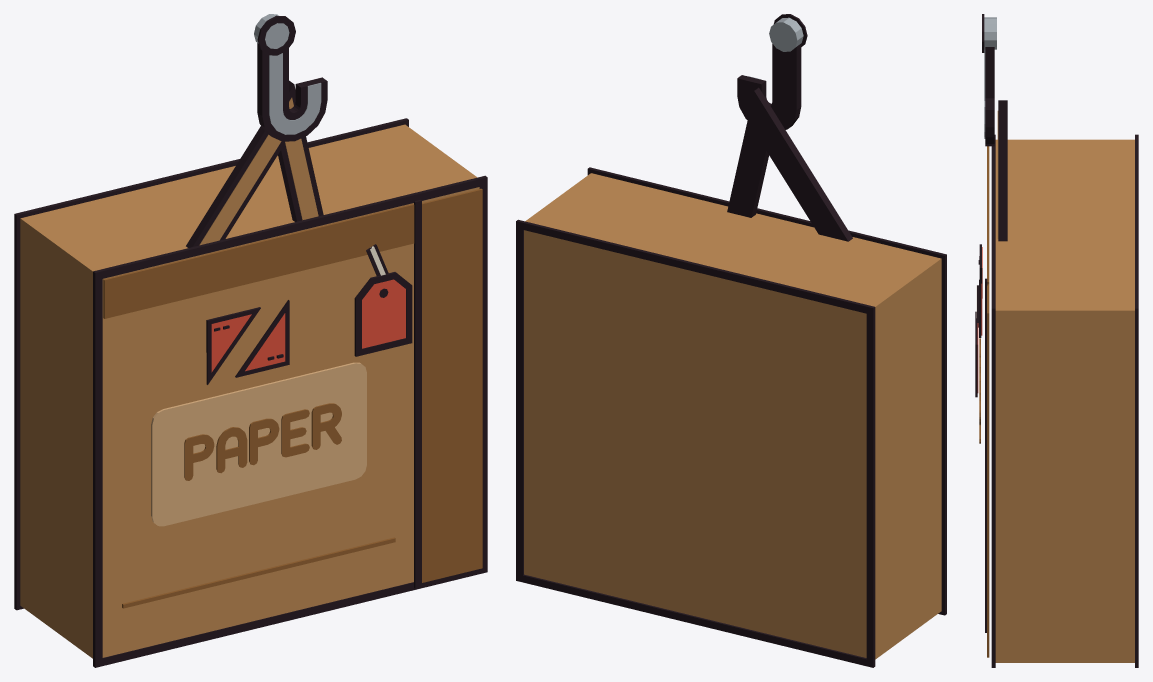
3 views of the same model, side by side, from view 1: azimuth 30°, elevation 25°; view 2: azimuth 150°, elevation 25°; view 3: azimuth 270°, elevation 25° (orthographic). The views are drawn at different scales.
Parts seen in each view (by area): view 1: Bag Holders proposal; view 2: Bag Holders proposal; view 3: Bag Holders proposal.
Part boxes in pixels (bbox=[...]): Bag Holders proposal: bbox=[14, 14, 487, 667]; Bag Holders proposal: bbox=[516, 14, 946, 667]; Bag Holders proposal: bbox=[975, 14, 1138, 667].
Size of the model in its own units: 0.6974 by 1.04 by 0.2767.
